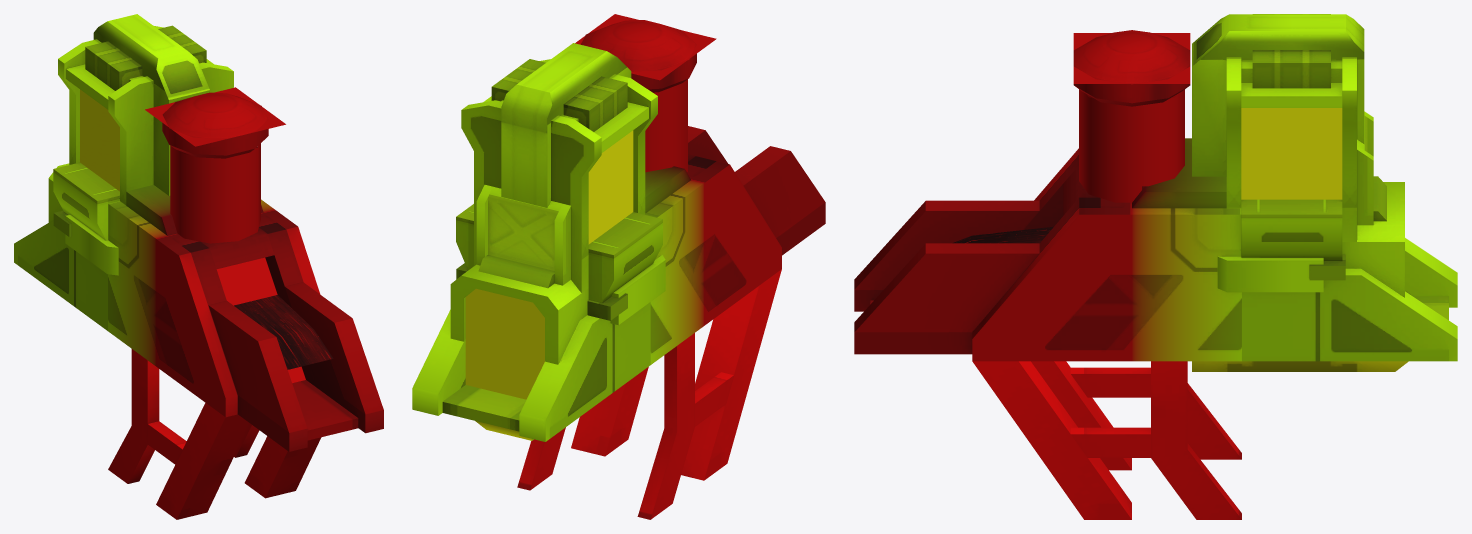
The model's file is spray-coater.glb.
The picture shows the model from 3 angles, left to right: view 1: azimuth 30°, elevation 25°; view 2: azimuth 150°, elevation 25°; view 3: azimuth 270°, elevation 25°; orthographic projection. The views are drawn at different scales.
Parts seen in each view (by area): view 1: spray-coater-a, spray-coater-glass, spray-coater-mask, spray-coater-effect; view 2: spray-coater-a, spray-coater-mask, spray-coater-glass; view 3: spray-coater-a, spray-coater-glass, spray-coater-mask, spray-coater-effect.
Part boxes in pixels (x1,y1,x2,y2): spray-coater-a: (14,14,383,519); spray-coater-glass: (145,87,285,243); spray-coater-mask: (80,89,305,383); spray-coater-effect: (234,295,333,369); spray-coater-a: (412,20,825,519); spray-coater-mask: (465,130,633,399); spray-coater-glass: (575,14,716,172); spray-coater-a: (854,14,1457,519); spray-coater-glass: (1073,33,1190,202); spray-coater-mask: (1241,108,1342,199); spray-coater-effect: (952,226,1053,243).
Bounding box in the file's own units: 1.48 × 4.05 × 4.78.
5 materials, 3 textured.
